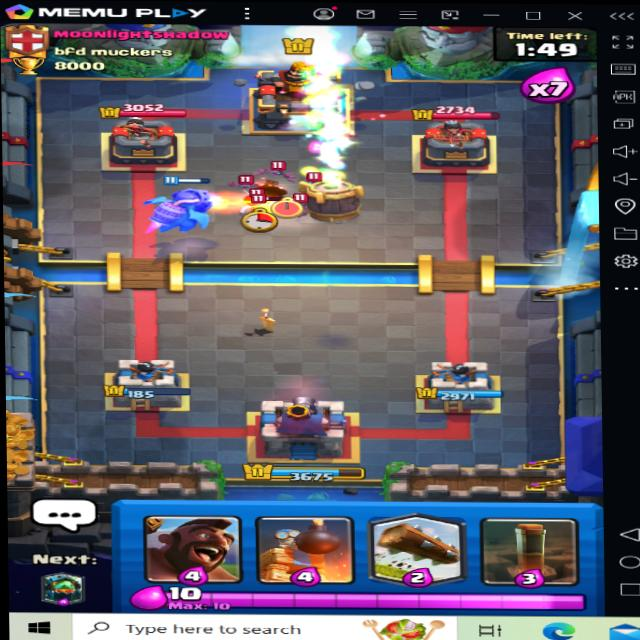Bat: (248, 157, 304, 181)
Rocket: (300, 173, 366, 228)
